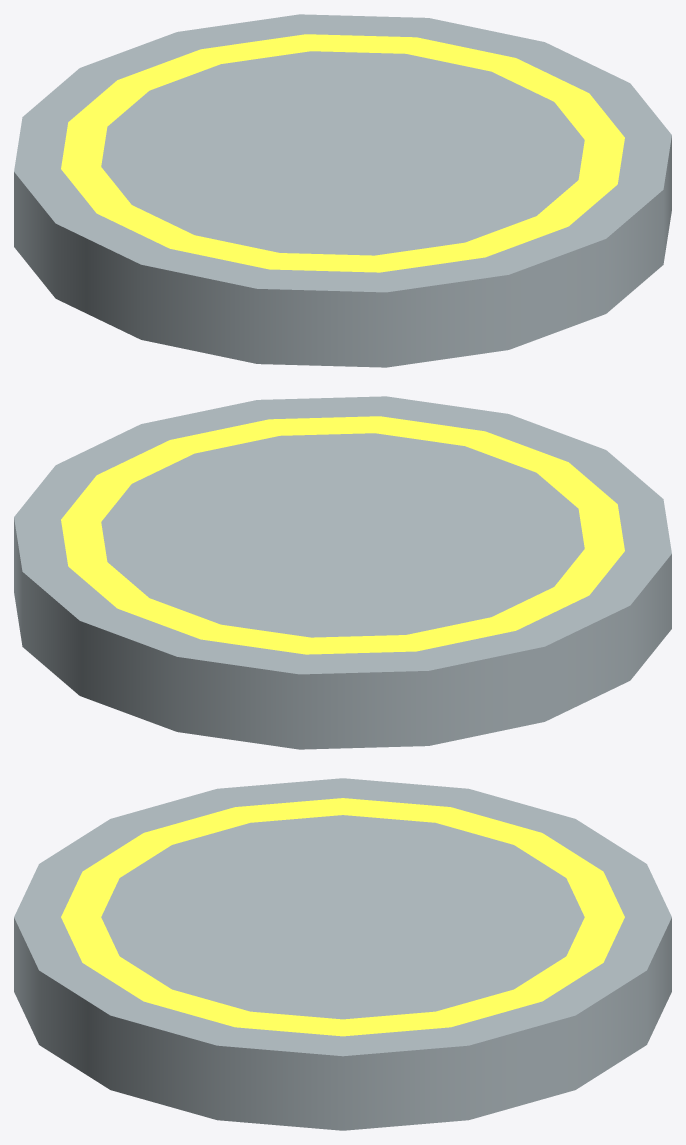
The model's file is SM_PlatformCylinder_v0_1.fbx.
The picture shows the model from 3 angles, top to bottom: view 1: azimuth 30°, elevation 25°; view 2: azimuth 150°, elevation 25°; view 3: azimuth 270°, elevation 25°; orthographic projection.
Parts seen in each view (by area): view 1: SM_PlatformCylinder_v0_1; view 2: SM_PlatformCylinder_v0_1; view 3: SM_PlatformCylinder_v0_1.
Boxes of the visible parts, x1,y1,x2,y2 form: SM_PlatformCylinder_v0_1: (14, 14, 671, 367); SM_PlatformCylinder_v0_1: (14, 396, 671, 749); SM_PlatformCylinder_v0_1: (14, 778, 671, 1130).
Bounding box in the file's own units: 1 × 0.125 × 1.
